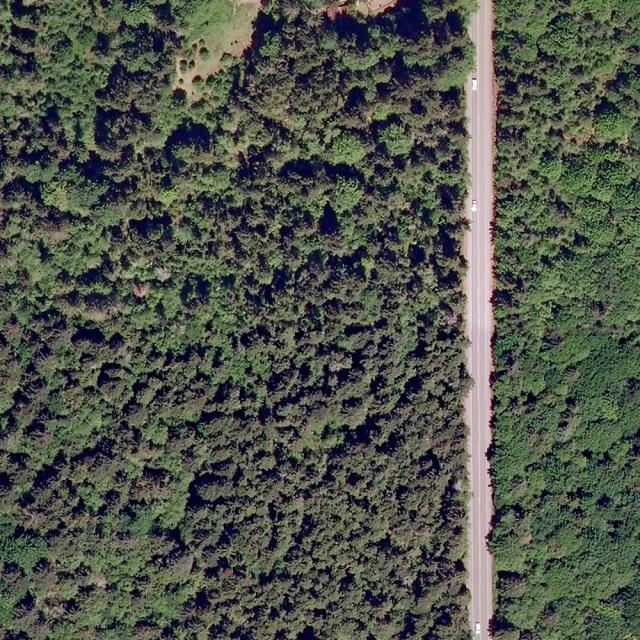metalled_road: (462, 0, 497, 639)
